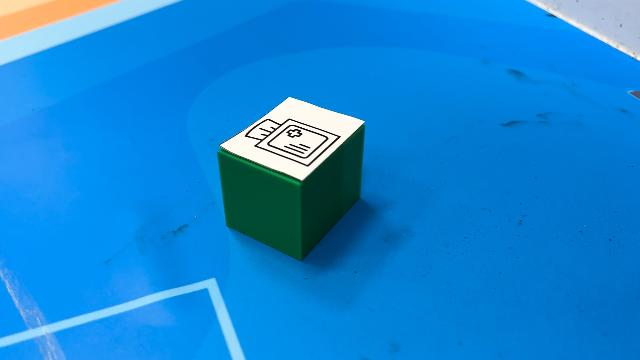napkin: (216, 94, 368, 262)
